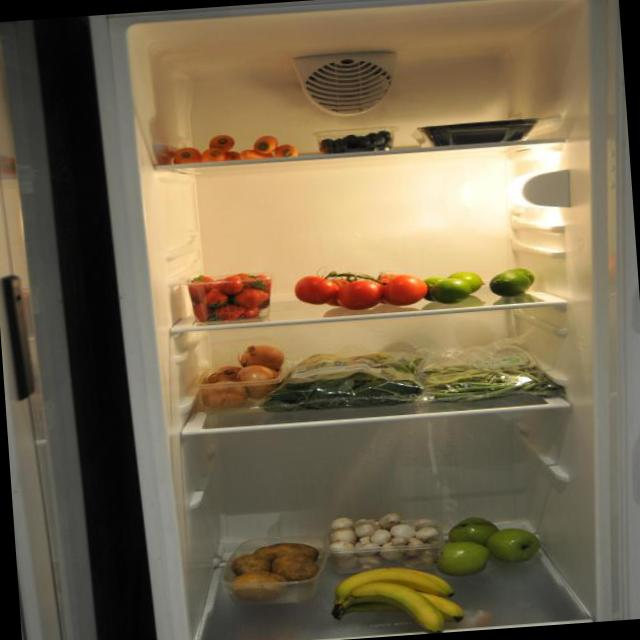Cebolla: (193, 342, 289, 415)
Champiñones: (325, 510, 442, 572)
Manzana: (433, 510, 554, 578)
Patata: (217, 536, 326, 604)
Plátano: (324, 558, 474, 640)
Tomate: (291, 258, 431, 315)
Zanahoria: (167, 126, 303, 169)
blueberries: (312, 119, 400, 156)
green_beans: (414, 338, 568, 406)
spinach: (252, 344, 423, 420)
strawberries: (184, 264, 279, 326)
